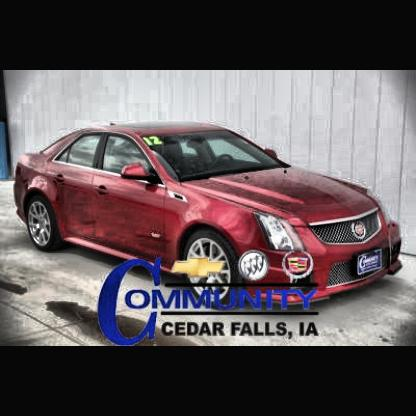Cadillac CTS-V Sedan 2012: (13, 124, 407, 310)
